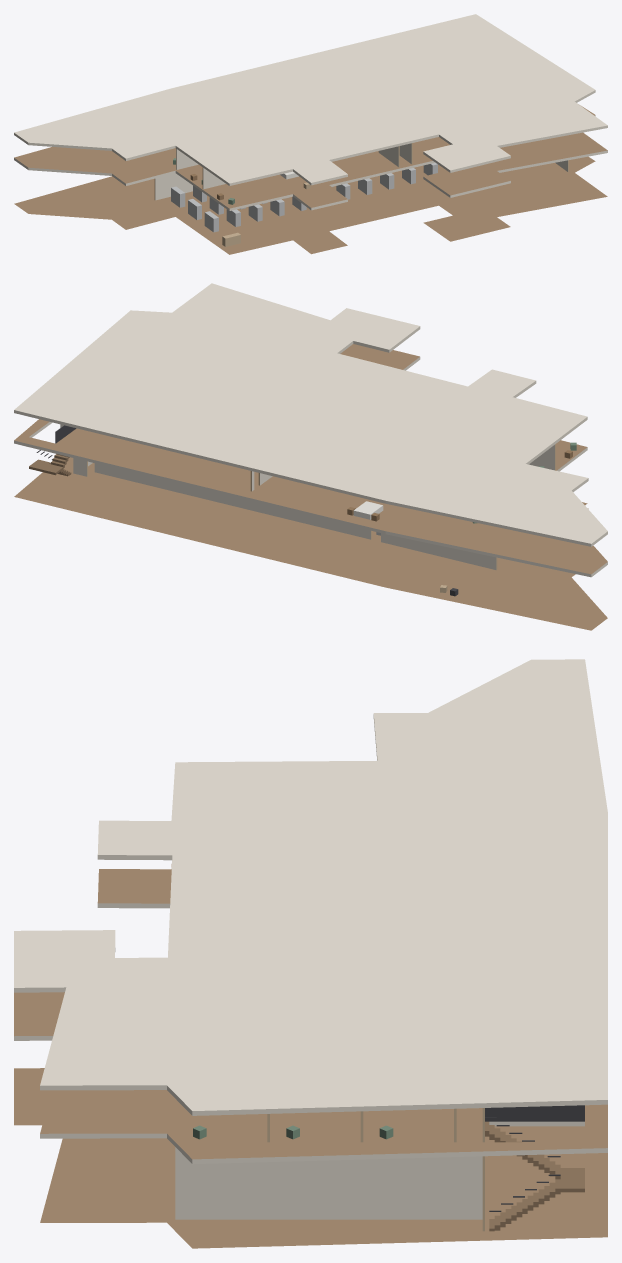
The model's file is interior.glb.
3 views of the same model, one above another, from view 1: azimuth 30°, elevation 25°; view 2: azimuth 150°, elevation 25°; view 3: azimuth 270°, elevation 25° (orthographic). The views are drawn at different scales.
Parts seen in each view (by area): view 1: slabs, coarse-s0, partitions; view 2: slabs, partitions, stair, coarse-s1; view 3: slabs, partitions, stair.
Part boxes in pixels (<box>): slabs: <box>14,14,607,254</box>; coarse-s0: <box>171,162,437,246</box>; partitions: <box>154,143,568,200</box>; slabs: <box>14,283,607,630</box>; partitions: <box>60,424,555,570</box>; stair: <box>29,425,76,476</box>; coarse-s1: <box>347,442,576,523</box>; slabs: <box>14,659,607,1248</box>; partitions: <box>175,1108,484,1231</box>; stair: <box>485,1105,584,1231</box>.
Size of the model in its own units: 52.57 by 7.48 by 29.21.
